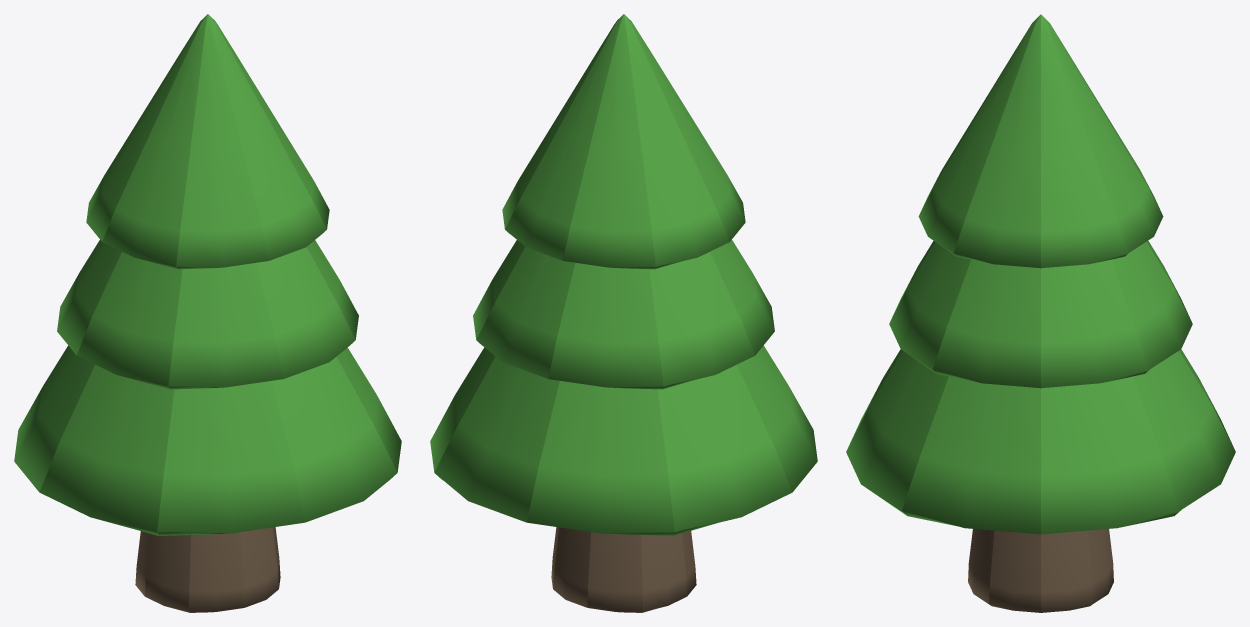
File: Map_Object_Tree.fbx
3 views of the same model, side by side, from view 1: azimuth 30°, elevation 25°; view 2: azimuth 150°, elevation 25°; view 3: azimuth 270°, elevation 25° (orthographic).
Visible parts, largest first — view 1: Cube.001, Cube.003, Cube.002, Cube; view 2: Cube.001, Cube.003, Cube.002, Cube; view 3: Cube.001, Cube.003, Cube.002, Cube.
Part boxes in pixels (x1=…): Cube.001: x1=14, y1=345, x2=401, y2=535; Cube.003: x1=86, y1=14, x2=329, y2=269; Cube.002: x1=57, y1=240, x2=358, y2=389; Cube: x1=135, y1=527, x2=280, y2=612; Cube.001: x1=430, y1=345, x2=817, y2=535; Cube.003: x1=502, y1=14, x2=745, y2=269; Cube.002: x1=473, y1=240, x2=774, y2=389; Cube: x1=551, y1=527, x2=696, y2=612; Cube.001: x1=846, y1=349, x2=1235, y2=534; Cube.003: x1=918, y1=14, x2=1163, y2=268; Cube.002: x1=889, y1=241, x2=1192, y2=388; Cube: x1=968, y1=529, x2=1113, y2=612.
Bounding box in the file's own units: 4.17 × 6.76 × 4.17.
